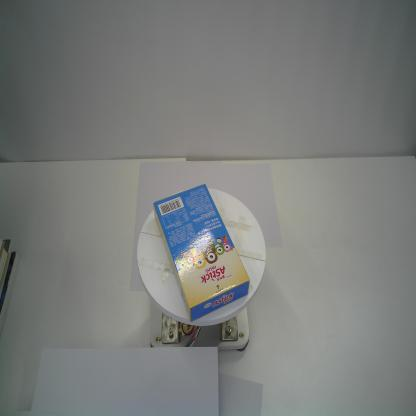Dessert: (149, 181, 252, 323)
